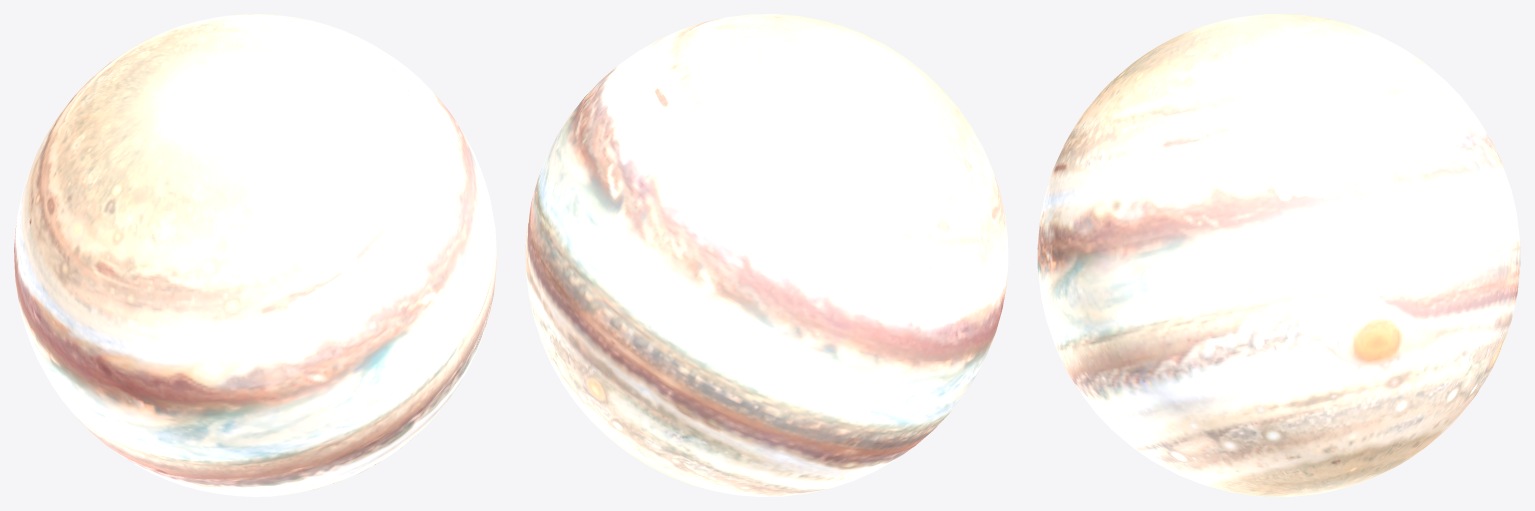
File: jupiterGlb.glb
The picture shows the model from 3 angles, left to right: view 1: azimuth 30°, elevation 25°; view 2: azimuth 150°, elevation 25°; view 3: azimuth 270°, elevation 25°; orthographic projection.
Parts seen in each view (by area): view 1: Sphere.001; view 2: Sphere.001; view 3: Sphere.001.
Boxes of the visible parts, <box> form: Sphere.001: <box>14,14,496,496</box>; Sphere.001: <box>525,14,1008,496</box>; Sphere.001: <box>1037,14,1520,496</box>.
Bounding box in the file's own units: 22 × 21.99 × 21.99.
